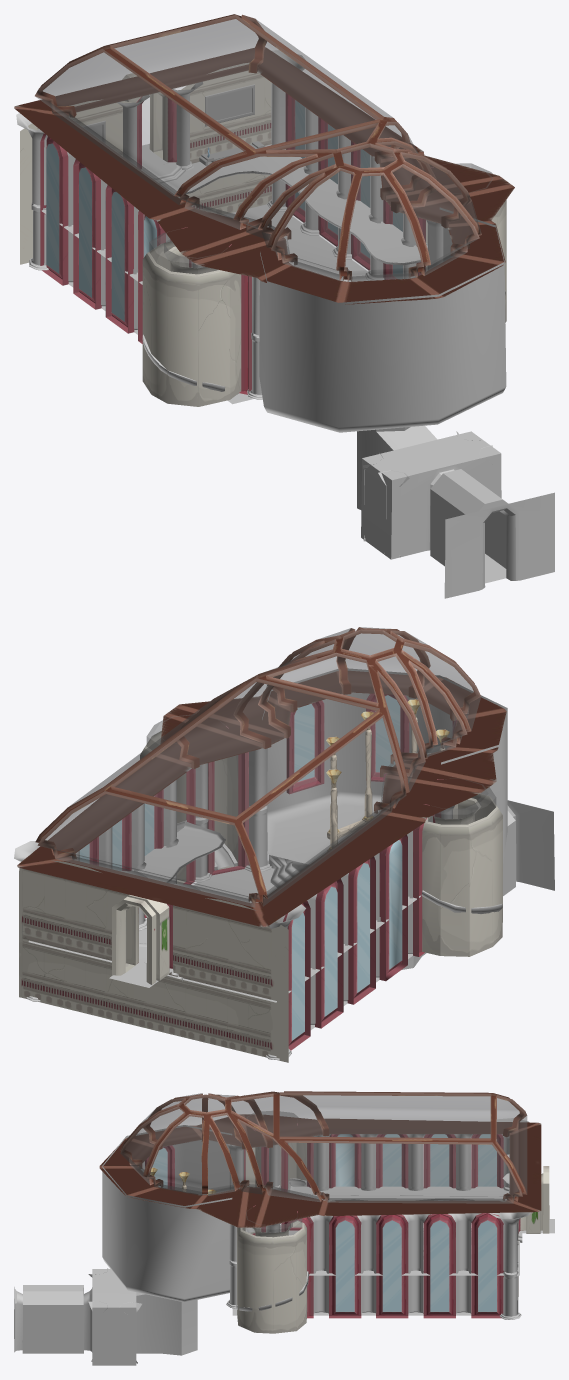
Rendered from Comedor_acomodado.fbx.
3 renders of one model, top to bottom at view 1: azimuth 30°, elevation 25°; view 2: azimuth 150°, elevation 25°; view 3: azimuth 270°, elevation 25°, orthographic. The views are drawn at different scales.
Parts seen in each view (by area): view 1: techo_UVs, pared_cilindrica, tunel_conector, curva_de_coneccion1, pared_entrada, segundo_piso, ventanal2, ventanal1, ventanal, piso, columna_completa1, cuadro1 (+15 smaller); view 2: techo_UVs, pared_entrada, curva_de_coneccion1, pared_cilindrica, curva_de_coneccion, tunel_conector, ventanal1, ventanal3, ventanal2, ventanal, segundo_piso, ventanal8 (+17 smaller); view 3: techo_UVs, pared_cilindrica, tunel_conector, curva_de_coneccion, ventanal6, ventanal5, ventanal7, ventanal4, segundo_piso1, curva_de_coneccion1, columna_alta2, columna_alta (+18 smaller).
Boxes of the visible parts, x1,y1,x2,y2 form: techo_UVs: [14, 14, 514, 304]; pared_cilindrica: [259, 207, 506, 509]; tunel_conector: [361, 431, 554, 598]; curva_de_coneccion1: [142, 227, 251, 406]; pared_entrada: [20, 63, 271, 264]; segundo_piso: [168, 144, 421, 265]; ventanal2: [105, 185, 134, 333]; ventanal1: [73, 159, 101, 309]; ventanal: [40, 133, 68, 285]; piso: [68, 204, 368, 404]; columna_completa1: [16, 113, 48, 270]; cuadro1: [205, 84, 254, 126]; techo_UVs: [17, 627, 506, 927]; pared_entrada: [19, 860, 288, 1062]; curva_de_coneccion1: [413, 778, 502, 956]; pared_cilindrica: [262, 668, 507, 969]; curva_de_coneccion: [140, 715, 248, 884]; tunel_conector: [503, 800, 554, 895]; ventanal1: [315, 878, 343, 1028]; ventanal3: [379, 834, 407, 981]; ventanal2: [347, 856, 375, 1004]; ventanal: [283, 901, 310, 1050]; segundo_piso: [28, 822, 225, 962]; ventanal8: [286, 700, 324, 794]; techo_UVs: [99, 1091, 541, 1227]; pared_cilindrica: [102, 1125, 232, 1355]; tunel_conector: [14, 1269, 136, 1365]; curva_de_coneccion: [237, 1205, 313, 1333]; ventanal6: [423, 1214, 455, 1318]; ventanal5: [376, 1214, 408, 1318]; ventanal7: [471, 1213, 503, 1318]; ventanal4: [329, 1215, 361, 1318]; segundo_piso1: [288, 1183, 508, 1200]; curva_de_coneccion1: [244, 1111, 313, 1235]; columna_alta2: [489, 1212, 530, 1319]; columna_alta: [402, 1214, 431, 1313].
Size of the model in its own units: 64.65 by 60.12 by 120.
